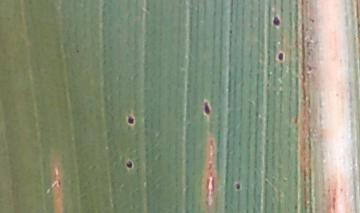tarspot: (203, 101, 211, 115), (126, 113, 135, 125), (272, 15, 281, 26), (233, 182, 242, 191), (277, 51, 285, 61), (305, 62, 313, 72), (126, 159, 133, 169), (74, 47, 81, 54)
